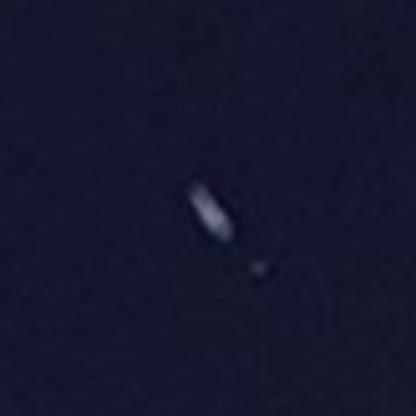ship: (176, 175, 242, 247)
